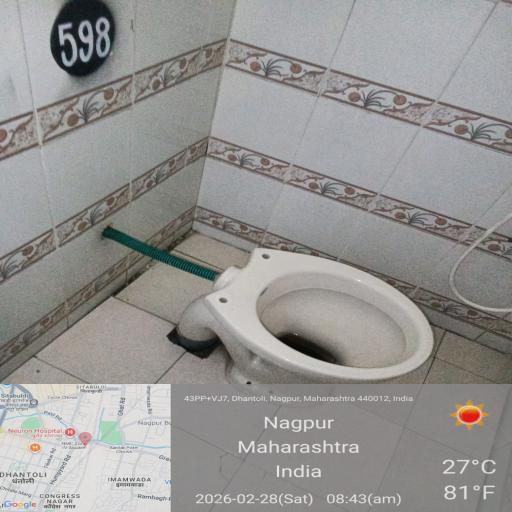clean_floor: (34, 263, 512, 494), (36, 20, 496, 197)
partial_dirty_western: (185, 241, 430, 438)
